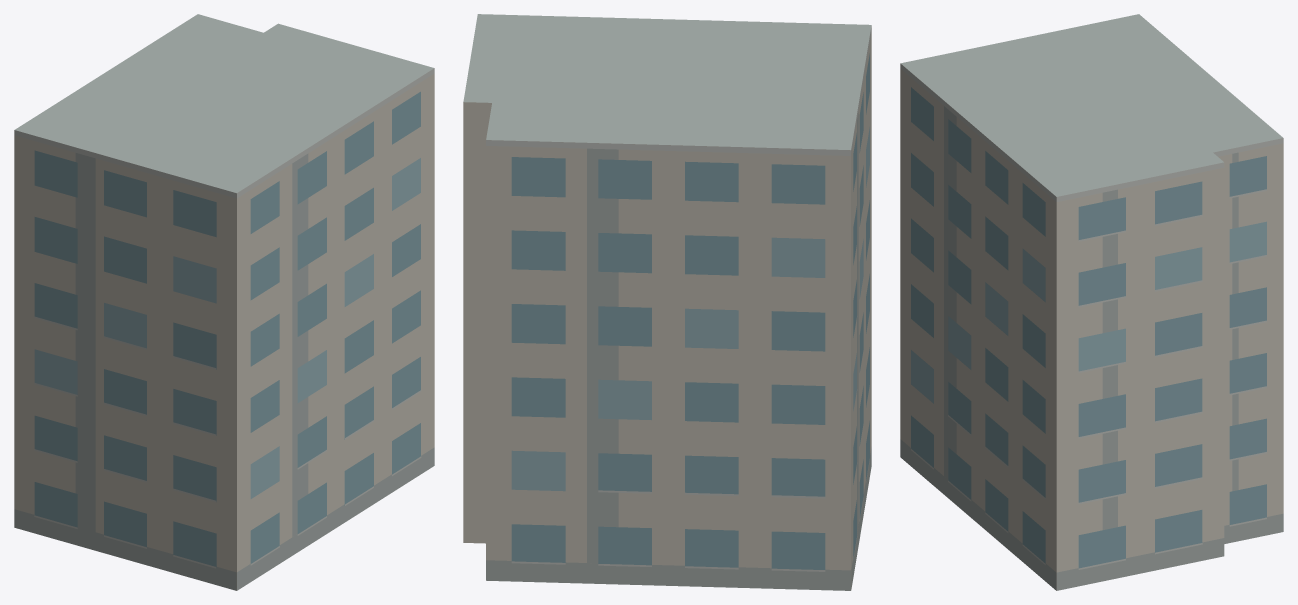
The model's file is survey-upis-32981329.glb.
The picture shows the model from 3 angles, left to right: view 1: azimuth 30°, elevation 25°; view 2: azimuth 150°, elevation 25°; view 3: azimuth 270°, elevation 25°; orthographic projection. The views are drawn at different scales.
Parts seen in each view (by area): view 1: survey-upis-32981329.tmp; view 2: survey-upis-32981329.tmp; view 3: survey-upis-32981329.tmp.
Boxes of the visible parts, x1,y1,x2,y2 form: survey-upis-32981329.tmp: [14, 14, 434, 590]; survey-upis-32981329.tmp: [463, 14, 871, 590]; survey-upis-32981329.tmp: [900, 14, 1283, 590].
Size of the model in its own units: 18.24 by 18.3 by 16.14.
